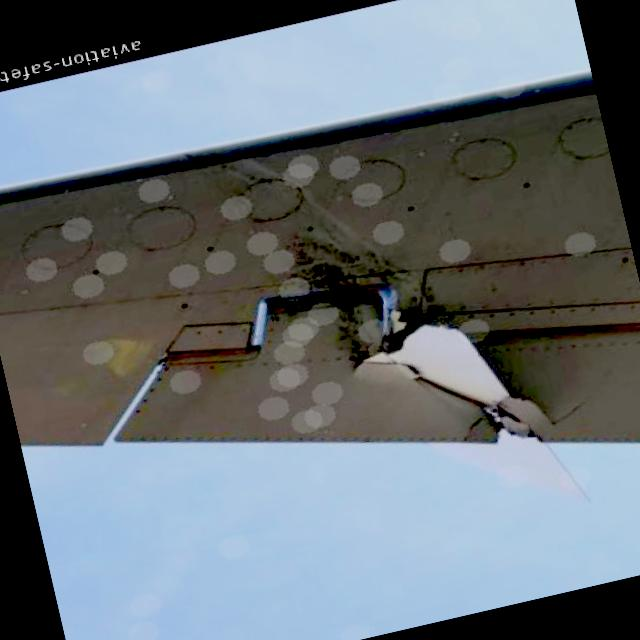crack: (534, 375, 594, 432)
